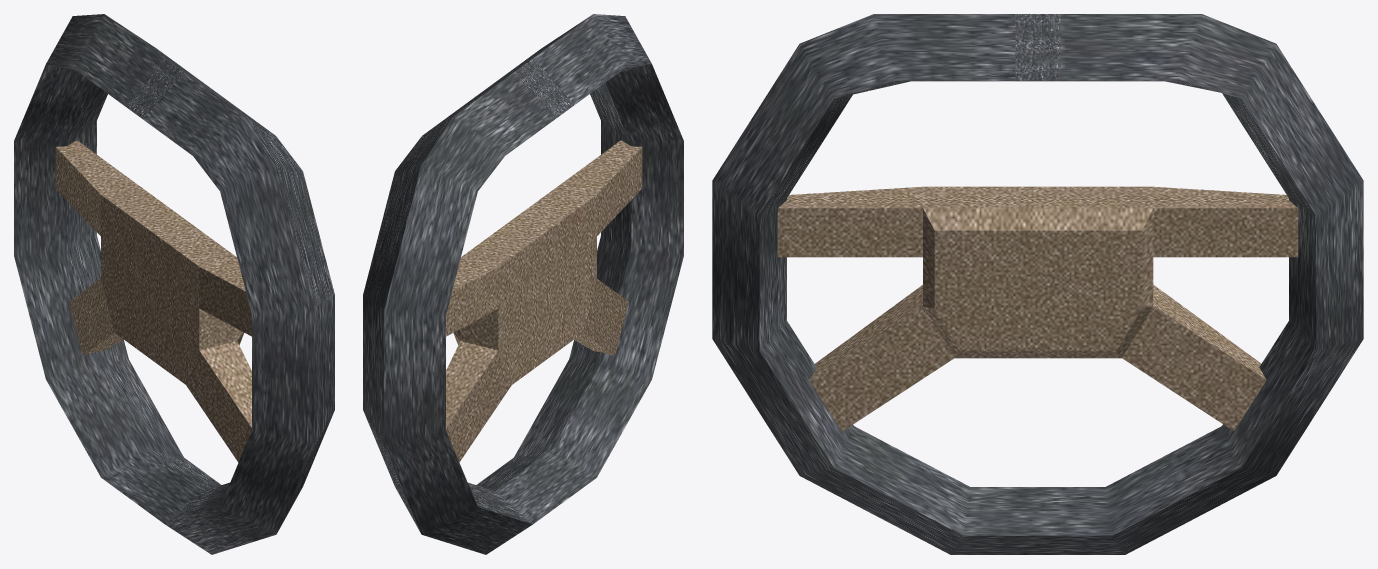
3 views of the same model, side by side, from view 1: azimuth 30°, elevation 25°; view 2: azimuth 150°, elevation 25°; view 3: azimuth 270°, elevation 25° (orthographic). The views are drawn at different scales.
Visible parts, largest first — view 1: Wheel_6, INT_WHEEL_002; view 2: Wheel_6, INT_WHEEL_002; view 3: Wheel_6, INT_WHEEL_002.
Part boxes in pixels (x1=…): Wheel_6: x1=14, y1=14, x2=334, y2=554; INT_WHEEL_002: x1=55, y1=140, x2=251, y2=462; Wheel_6: x1=363, y1=14, x2=683, y2=554; INT_WHEEL_002: x1=446, y1=140, x2=642, y2=462; Wheel_6: x1=712, y1=14, x2=1363, y2=554; INT_WHEEL_002: x1=777, y1=186, x2=1298, y2=431.
Bounding box in the file's own units: 0.4946 × 2.63 × 2.87.
2 materials, 2 textured.
